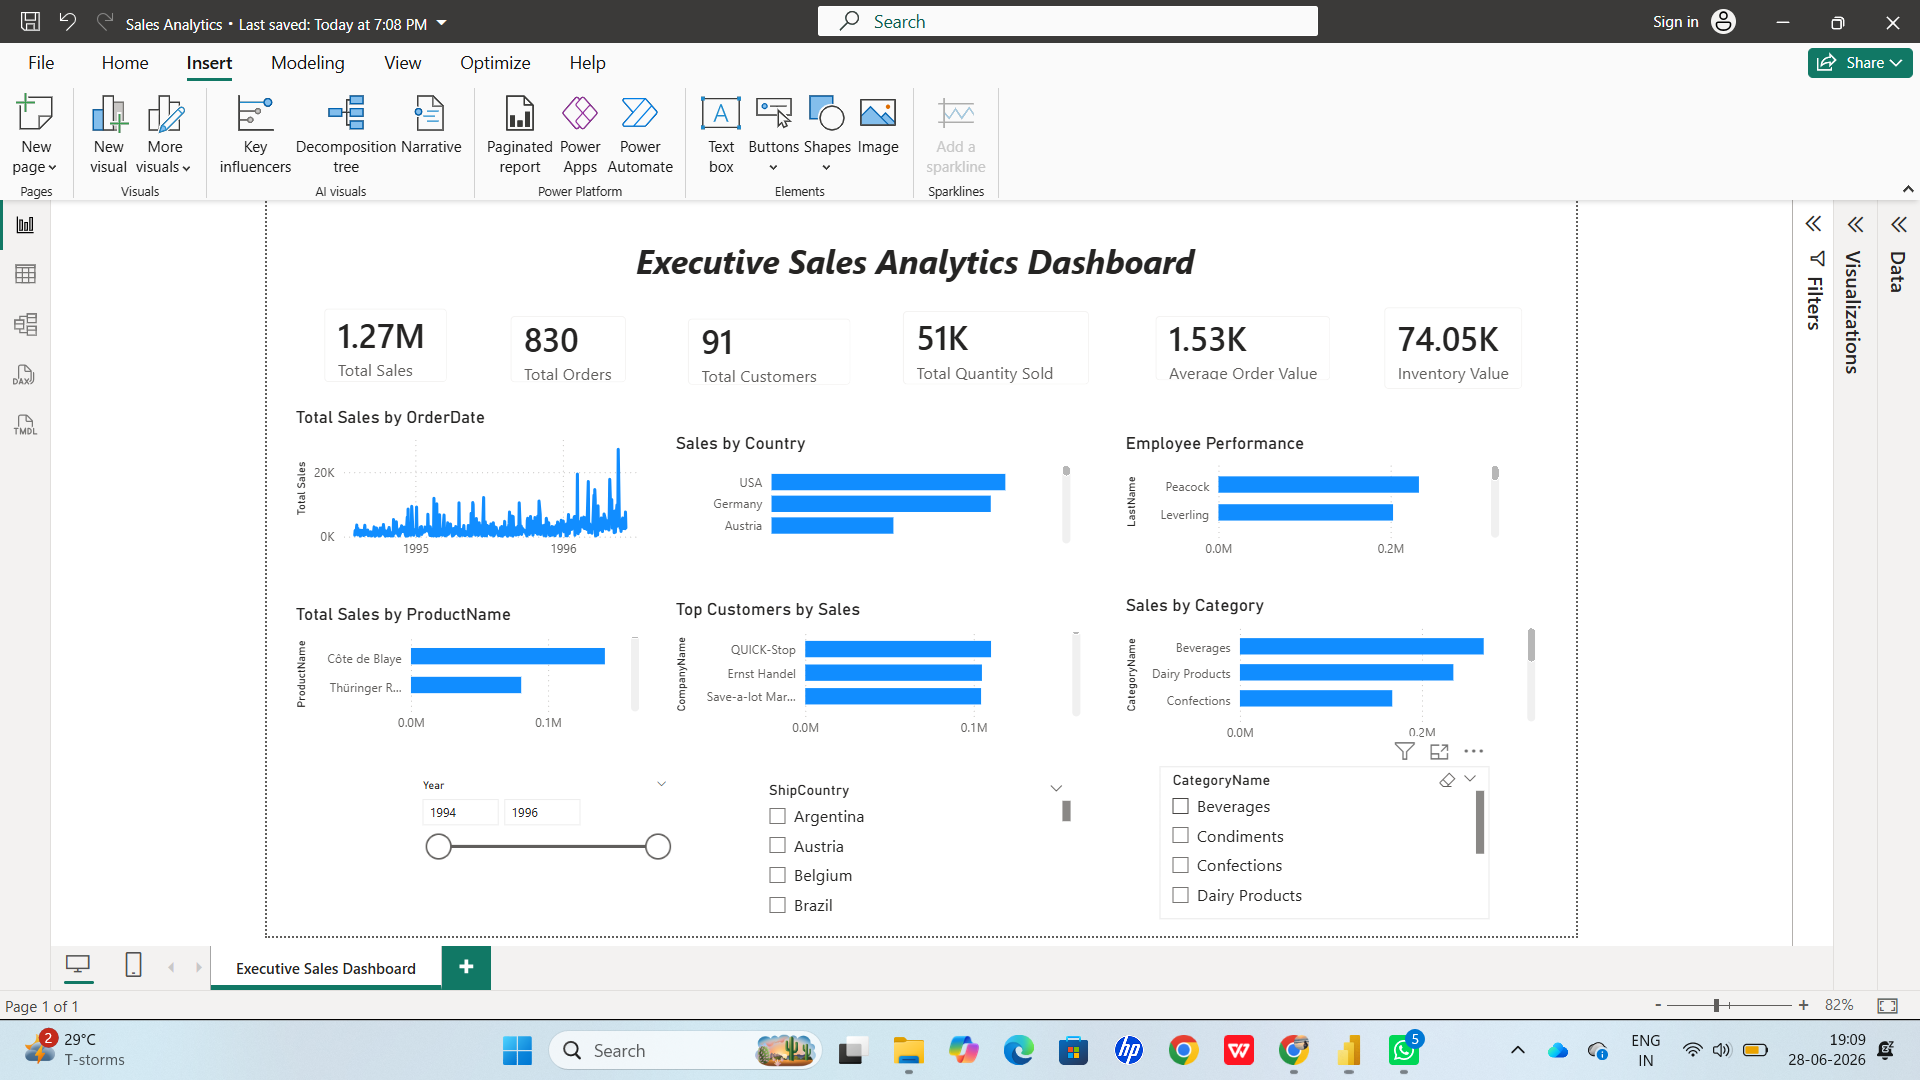

The page's visual inventory and layout, read from the dashboard file:
{"tool":"powerbi","page":{"name":"Executive Sales Dashboard","canvas":[1280,720],"ordinal":0},"visuals":[{"type":"cardVisual","fields":{"Data":["orders.Total Orders"]},"box":[221.3,96.6,148,99],"z":1000},{"type":"cardVisual","fields":{"Data":["customers.Total Customers"]},"box":[395,99,193.2,99],"z":2000},{"type":"cardVisual","fields":{"Data":["order details.Total Quantity Sold"]},"box":[605.3,91.7,216.4,106.4],"z":3000},{"type":"cardVisual","fields":{"Data":["orders.Average Order Value"]},"box":[852.3,96.6,205.4,97.8],"z":4000},{"type":"cardVisual","fields":{"Data":["products.Inventory Value"]},"box":[1076.1,88,170,114.9],"z":5000},{"type":"lineChart","fields":{"Y":["order details.Total Sales"],"Category":["orders.OrderDate"]},"box":[23.2,201.8,346.1,157.7],"z":6000},{"type":"clusteredBarChart","fields":{"Y":["order details.Total Sales"],"Category":["products.ProductName"]},"box":[23.2,395,346.1,134.5],"z":7000},{"type":"clusteredBarChart","title":"Sales by Country","fields":{"Category":["orders.ShipCountry"],"Y":["order details.Total Sales"]},"box":[395,227.4,396.2,113.7],"z":8000},{"type":"clusteredBarChart","title":"Top Customers by Sales","fields":{"Category":["customers.CompanyName"],"Y":["order details.Total Sales"]},"box":[395,390.1,406,144.3],"z":9000},{"type":"clusteredBarChart","title":"Employee Performance","fields":{"Category":["employees.LastName","employees.FirstName"],"Y":["order details.Total Sales"]},"box":[835.2,227.4,375.4,132.1],"z":10000},{"type":"clusteredBarChart","title":"Sales by Category","fields":{"Category":["categories.CategoryName"],"Y":["order details.Total Sales"]},"box":[835.2,386.4,410.9,152.9],"z":11000},{"type":"slicer","fields":{"Values":["DateTable.Year"]},"box":[139.4,561.3,264.1,127.2],"z":12000},{"type":"slicer","fields":{"Values":["orders.ShipCountry"]},"box":[478.1,563.7,313,139.4],"z":13000},{"type":"slicer","fields":{"Values":["categories.CategoryName"]},"box":[873.1,553.9,322.8,149.2],"z":14000},{"type":"textbox","box":[264.1,33,739.8,52.6],"z":15000},{"type":"cardVisual","fields":{"Data":["order details.Total Sales"]},"box":[39.1,89.3,154.1,106.4],"z":16000}]}

Visuals, with their boxes on the page's 1280x720 design canvas (x1, y1, x2, y2). These are canvas units, not pixel positions in the 1920x1080 screenshot, which may show the page scaled, cropped or inside an application window:
cardVisual - orders.Total Orders: l=221, t=97, r=369, b=196
cardVisual - customers.Total Customers: l=395, t=99, r=588, b=198
cardVisual - order details.Total Quantity Sold: l=605, t=92, r=822, b=198
cardVisual - orders.Average Order Value: l=852, t=97, r=1058, b=194
cardVisual - products.Inventory Value: l=1076, t=88, r=1246, b=203
lineChart - order details.Total Sales x orders.OrderDate: l=23, t=202, r=369, b=360
clusteredBarChart - order details.Total Sales x products.ProductName: l=23, t=395, r=369, b=530
"Sales by Country" clusteredBarChart: l=395, t=227, r=791, b=341
"Top Customers by Sales" clusteredBarChart: l=395, t=390, r=801, b=534
"Employee Performance" clusteredBarChart: l=835, t=227, r=1211, b=360
"Sales by Category" clusteredBarChart: l=835, t=386, r=1246, b=539
slicer - DateTable.Year: l=139, t=561, r=404, b=688
slicer - orders.ShipCountry: l=478, t=564, r=791, b=703
slicer - categories.CategoryName: l=873, t=554, r=1196, b=703
textbox: l=264, t=33, r=1004, b=86
cardVisual - order details.Total Sales: l=39, t=89, r=193, b=196
